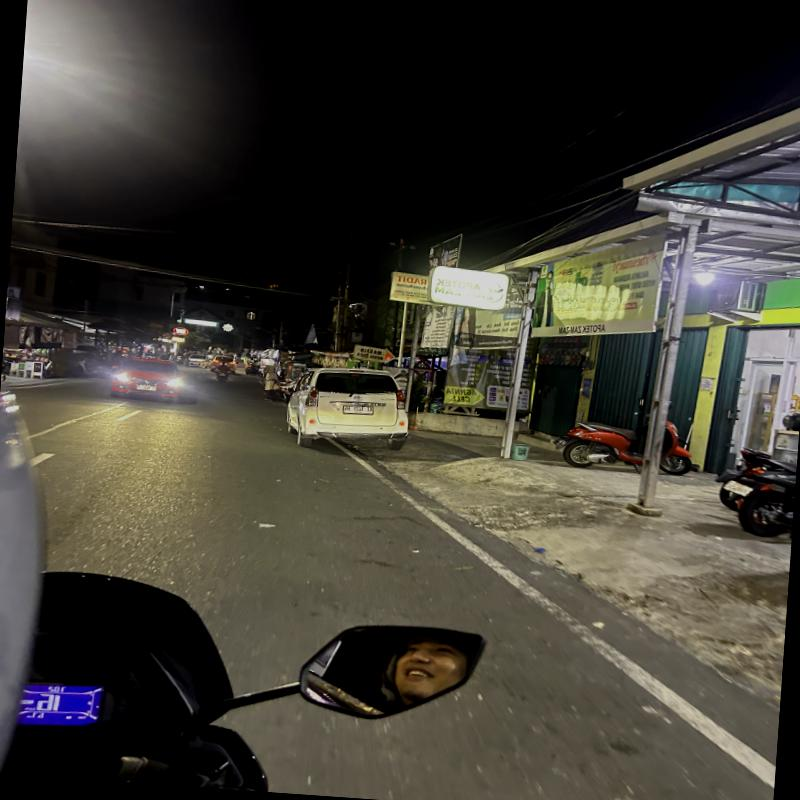license plate on a car: (340, 403, 374, 416), (134, 384, 156, 391)
